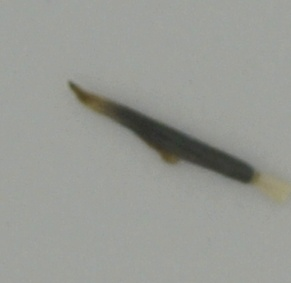เมล็ดงอกแตก: (66, 76, 290, 204)
